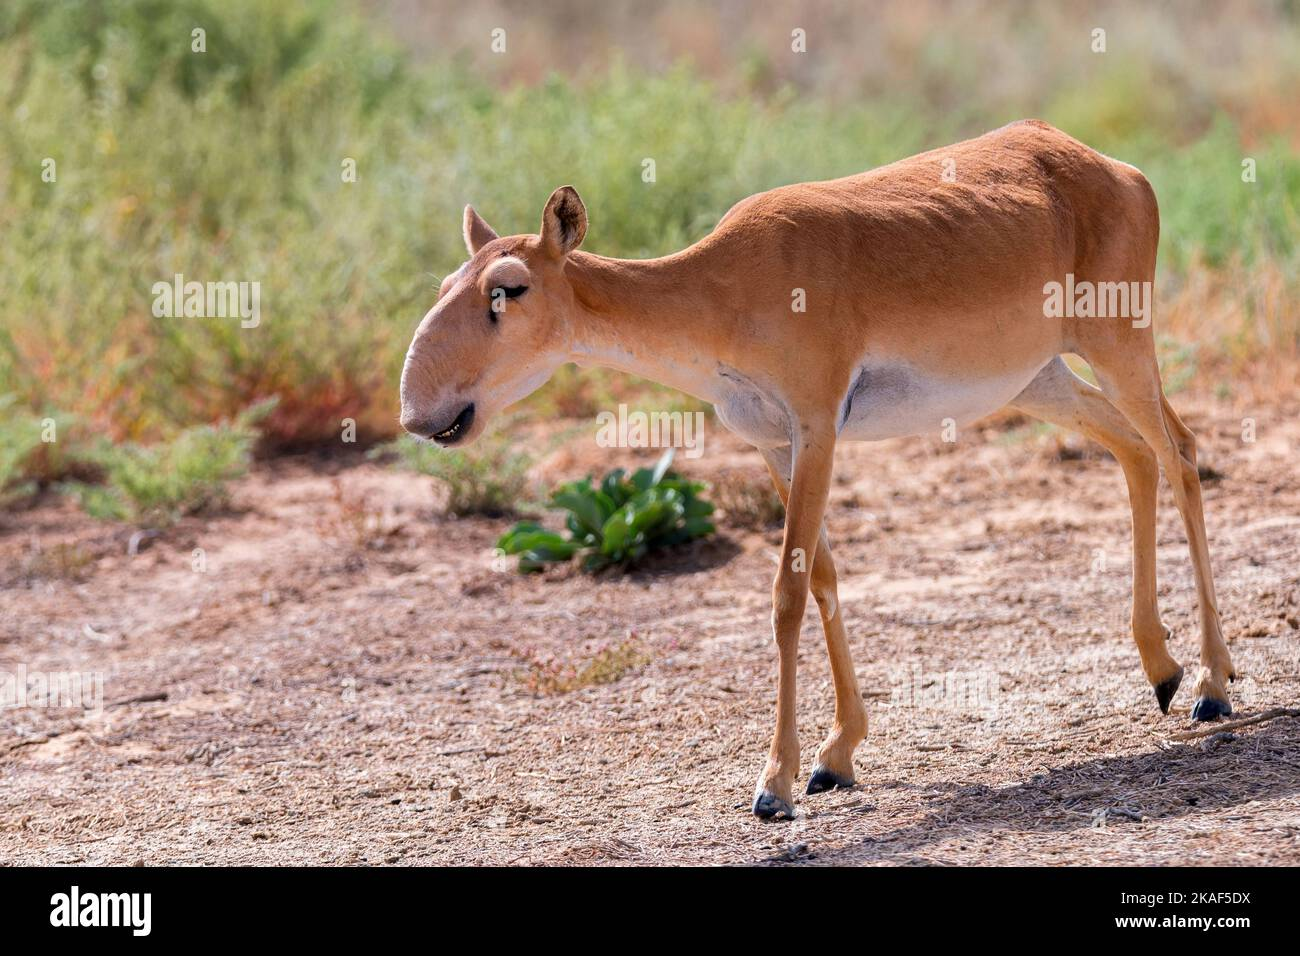saiga: (391, 111, 1241, 816)
